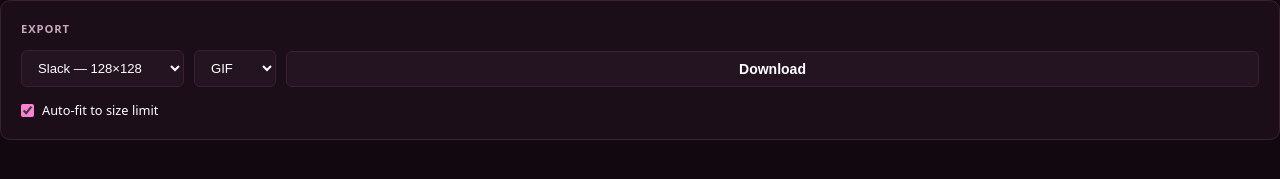
Test: ExportControls › auto-fit › is hidden for static compositions and non-GIF formats
Select "PNG" in the dropdown named "Format" at (235, 68), box x1=194 y1=50 x2=276 y2=87
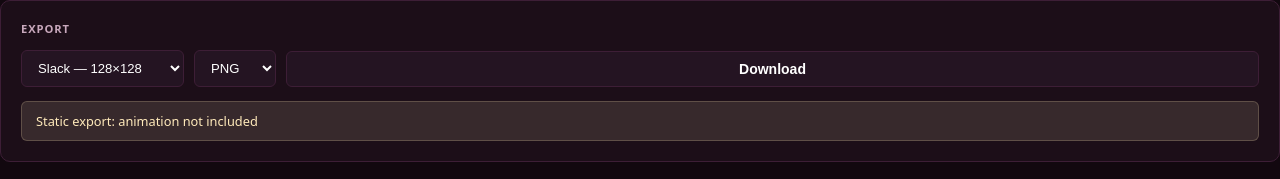
Check: the label "Auto-fit to size limit" is gone
